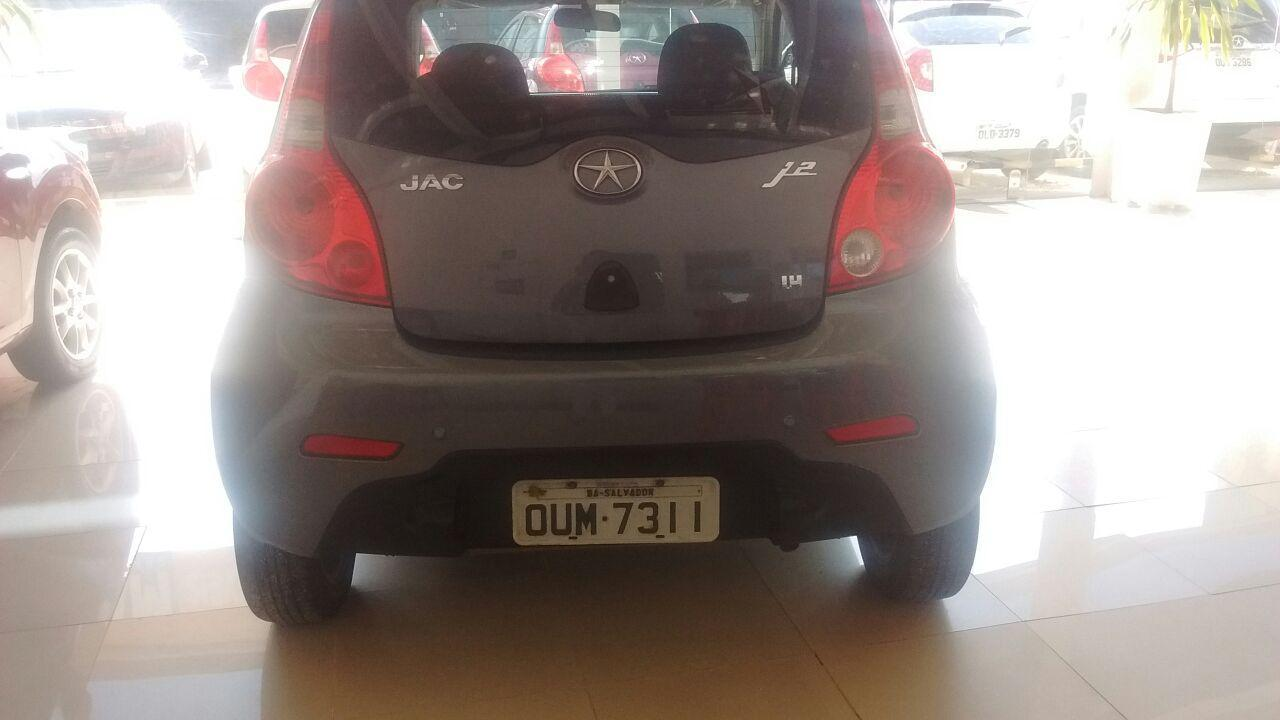placa de veiculo: (507, 459, 740, 560)
